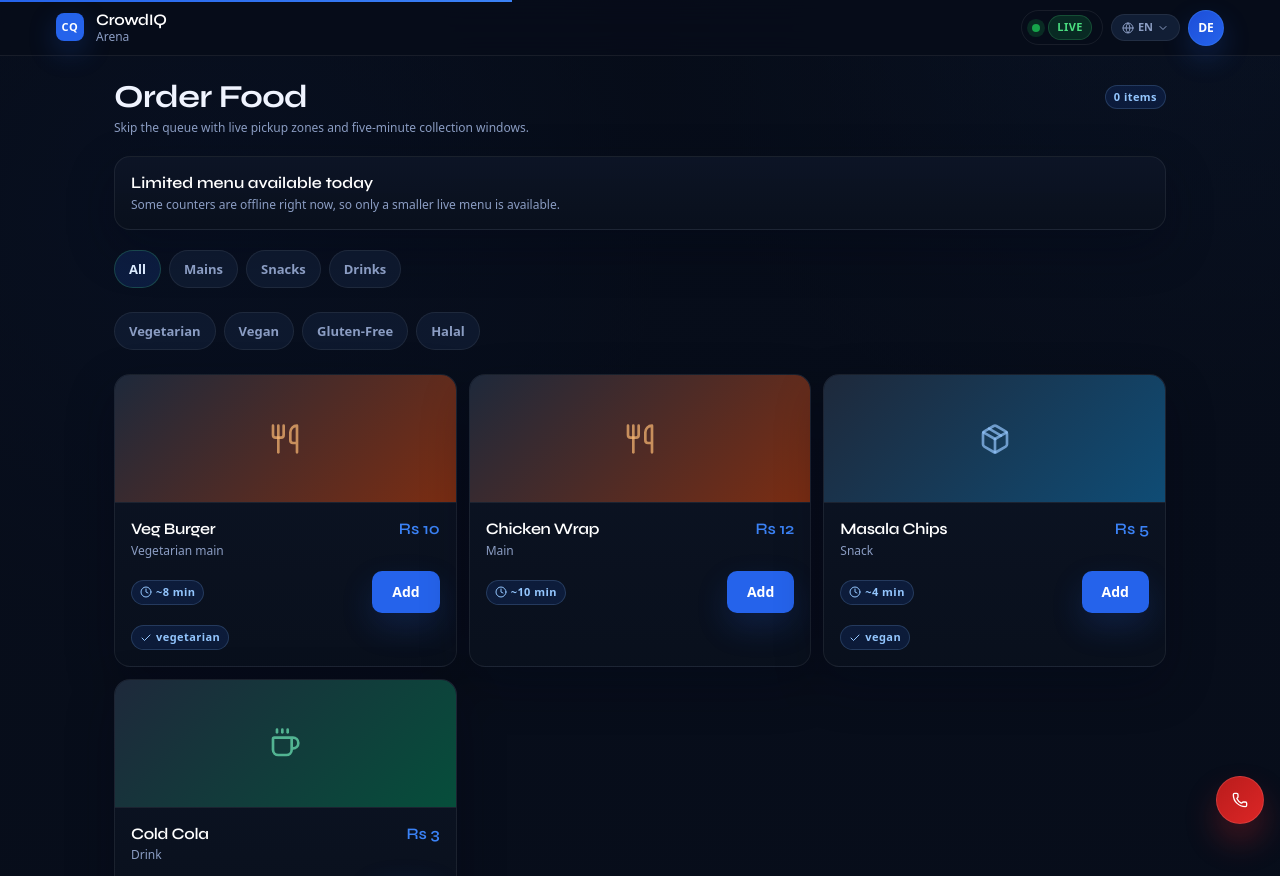
OrderPage › filters items by dietary tag
The image size is (1280, 876).
Expected: the heading "Veg Burger" is shown, x1=131 y1=519 x2=224 y2=539
Step 1. Click the button "Vegetarian" → (165, 331), box x1=114 y1=312 x2=216 y2=350
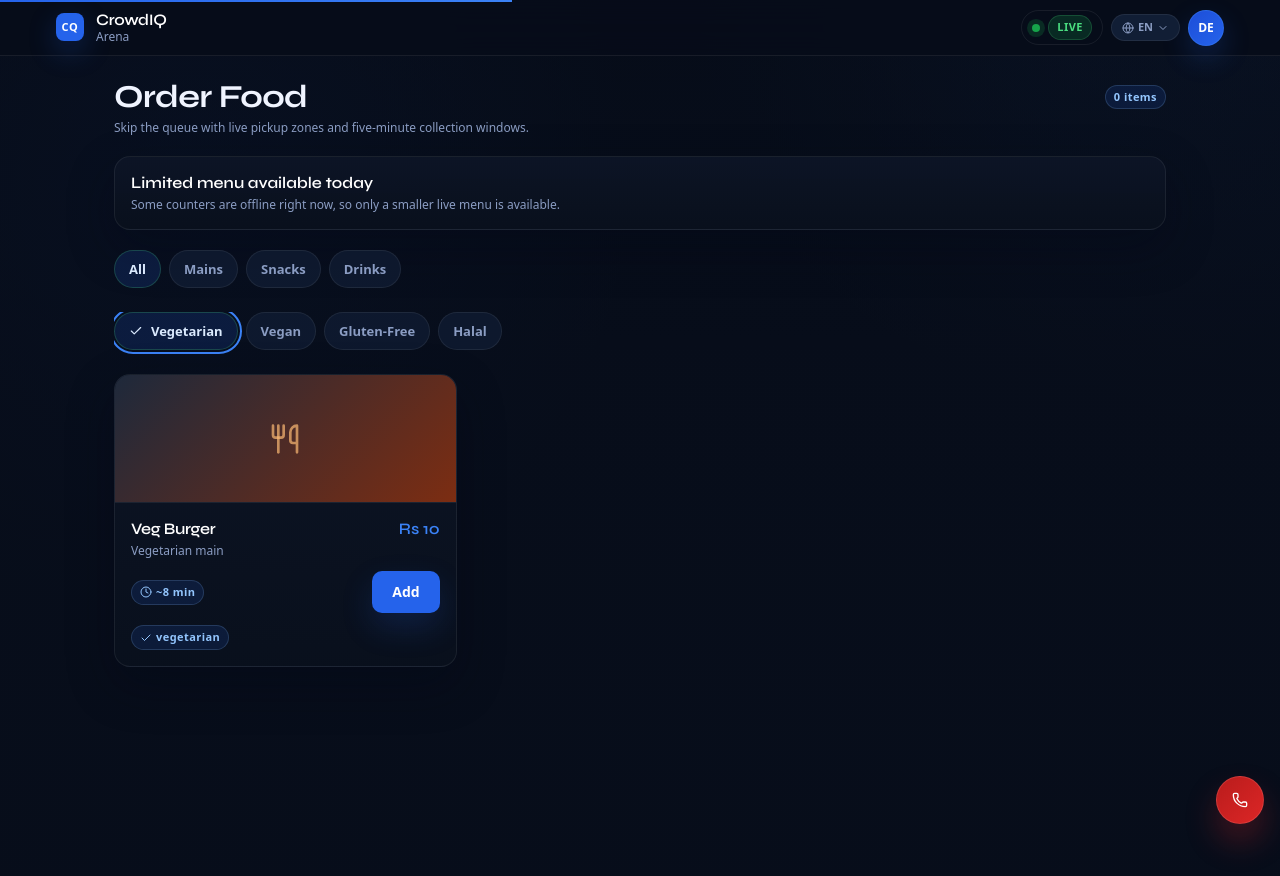
Expected: the heading "Veg Burger" is shown, x1=131 y1=519 x2=224 y2=539
Result: the heading "Chicken Wrap" is gone
Result: the heading "Masala Chips" is gone
